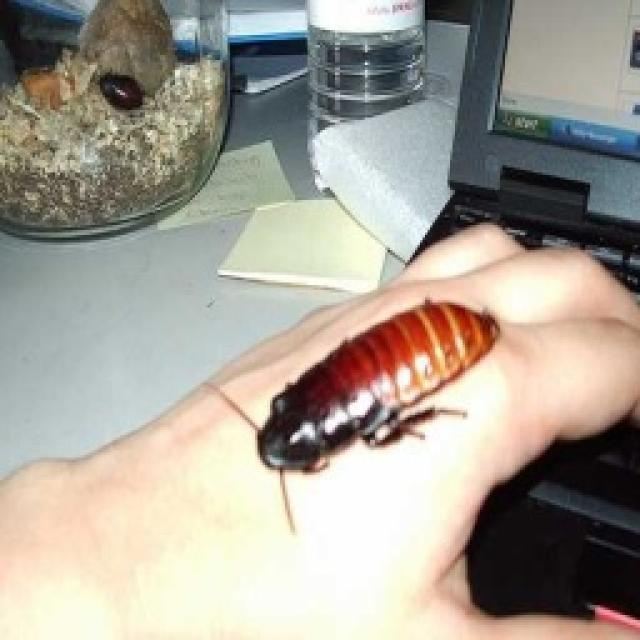cockroach: (250, 296, 503, 533)
